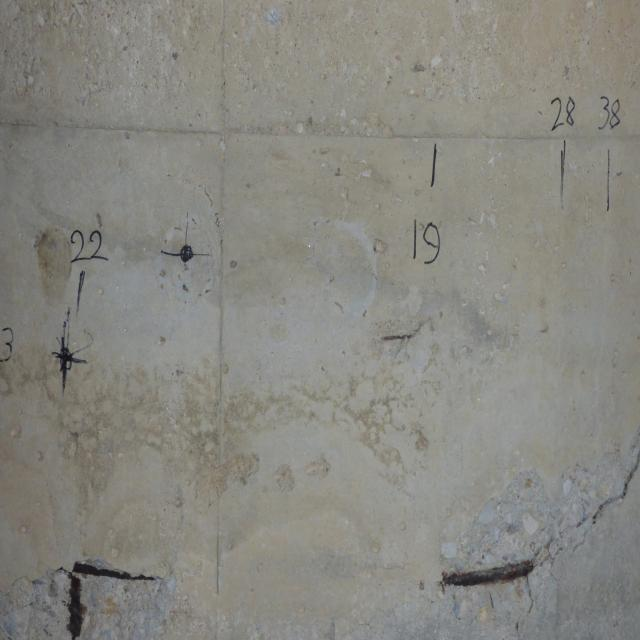corrosion: (57, 542, 164, 640), (433, 551, 541, 597)
